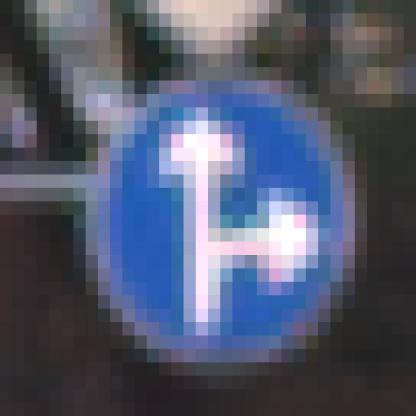Straight or Right: (75, 68, 344, 350)
